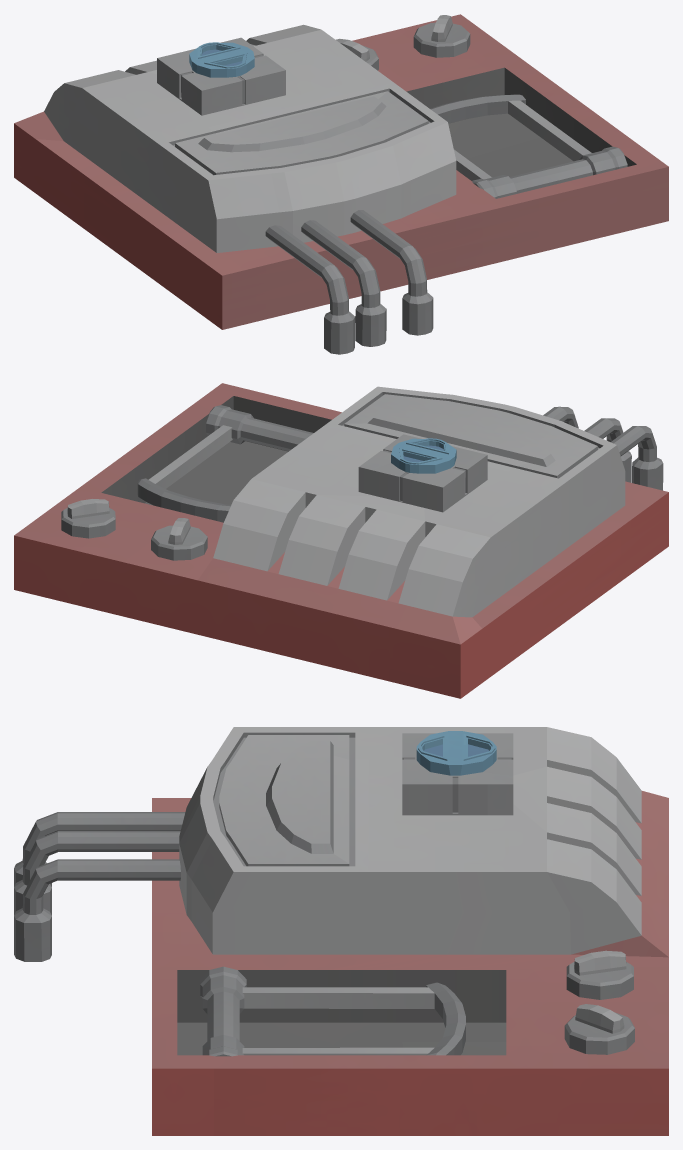
File: wall_machine.glb
3 renders of one model, top to bottom at view 1: azimuth 30°, elevation 25°; view 2: azimuth 150°, elevation 25°; view 3: azimuth 270°, elevation 25°, orthographic. The views are drawn at different scales.
Visible parts, largest first — view 1: machine, lever, pipe_3, pipe_2, pipe_1, knob_2, knob_1; view 2: machine, lever, pipe_3, knob_2, knob_1, pipe_2; view 3: machine, lever, pipe_1, pipe_2, pipe_3, knob_2, knob_1.
Boxes of the visible parts, x1,y1,x2,y2 form: machine: [14, 14, 668, 329]; lever: [430, 94, 627, 198]; pipe_3: [265, 225, 355, 354]; pipe_2: [301, 220, 386, 346]; pipe_1: [350, 210, 433, 335]; knob_2: [413, 15, 470, 57]; knob_1: [336, 38, 378, 70]; machine: [14, 383, 668, 698]; lever: [137, 405, 313, 522]; pipe_3: [611, 426, 663, 490]; knob_2: [61, 499, 115, 538]; knob_1: [151, 518, 207, 560]; pipe_2: [584, 418, 631, 482]; machine: [152, 727, 668, 1135]; lever: [200, 966, 465, 1056]; pipe_1: [14, 859, 180, 961]; pipe_2: [14, 831, 180, 915]; pipe_3: [14, 812, 185, 886]; knob_2: [564, 1004, 634, 1054]; knob_1: [566, 950, 633, 999].
Size of the model in its own units: 0.647 by 0.2155 by 0.662.
Materials: 1 (1 with a texture image).
